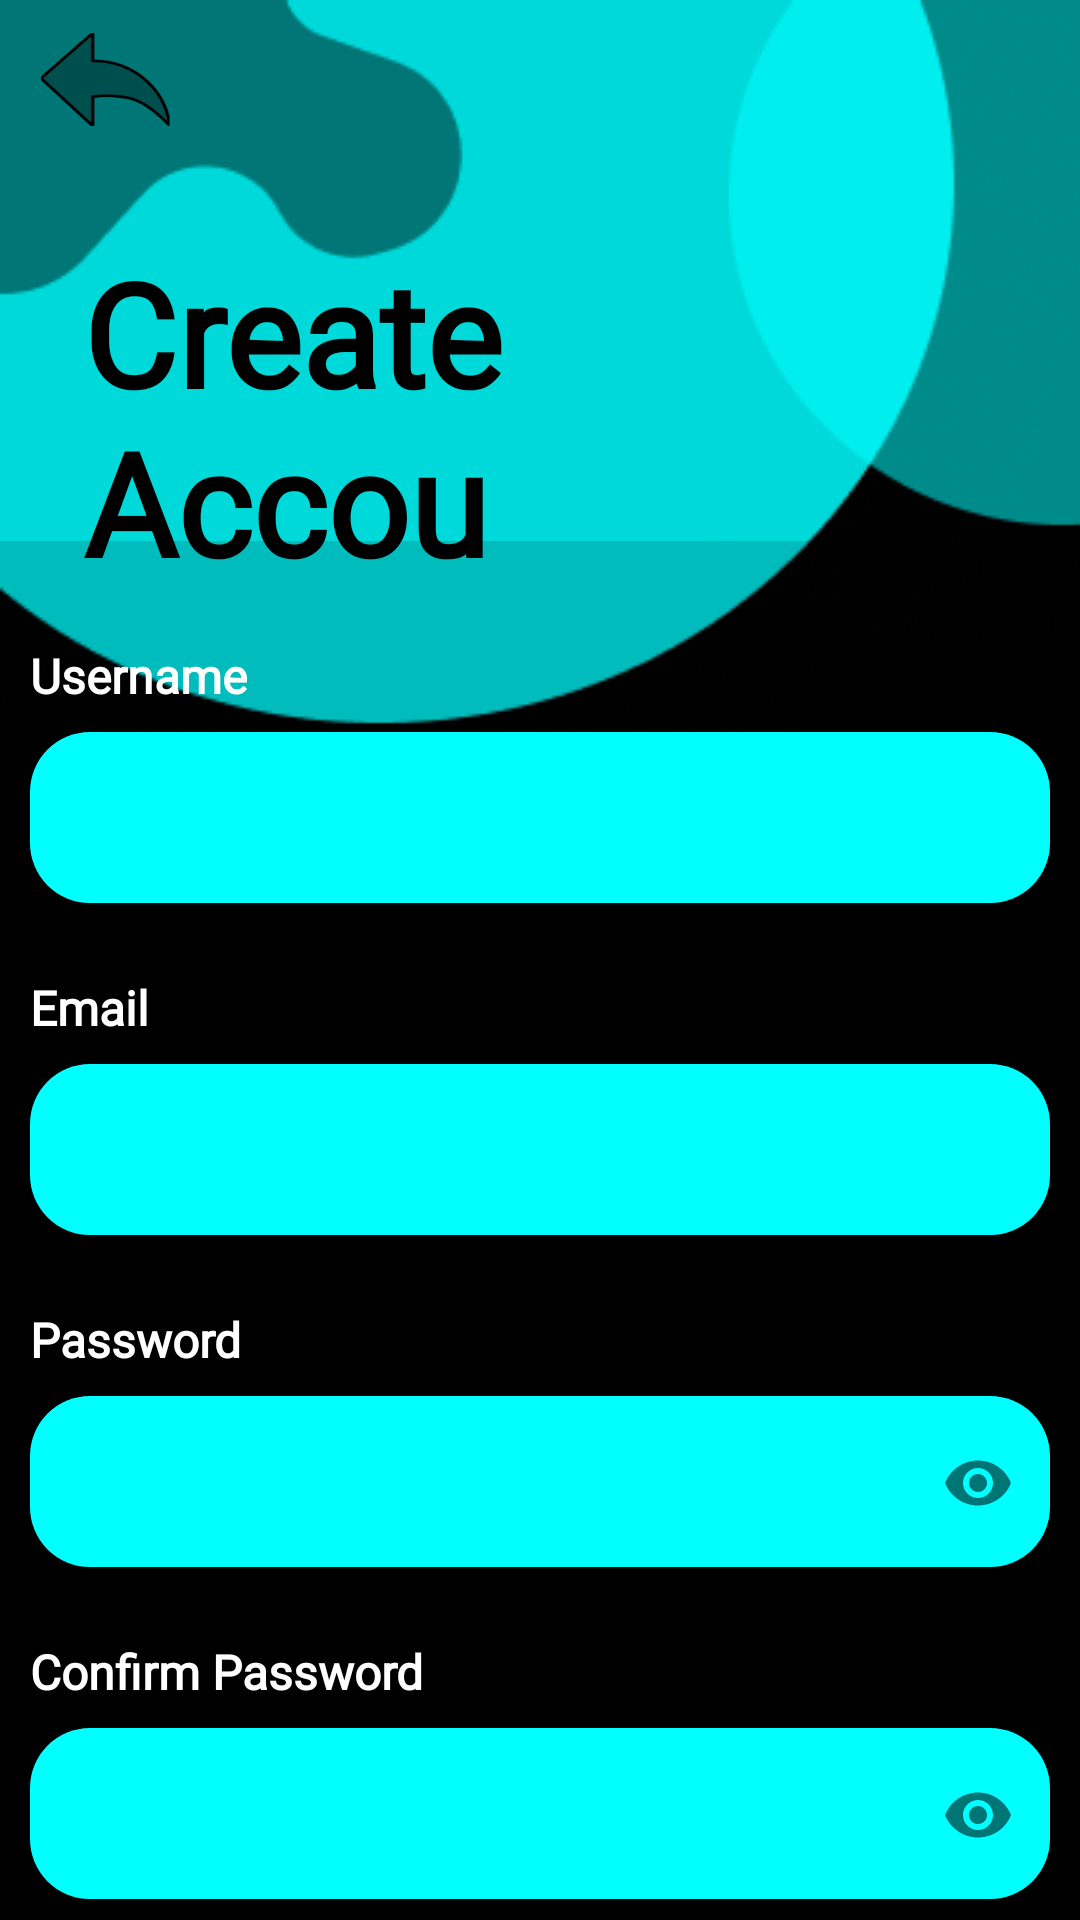

Named icons in this screenshot (1080px x 1920px) and their bounding boxes, detection(x1, y1, x2, y2):
arrow: detection(41, 33, 170, 126)
